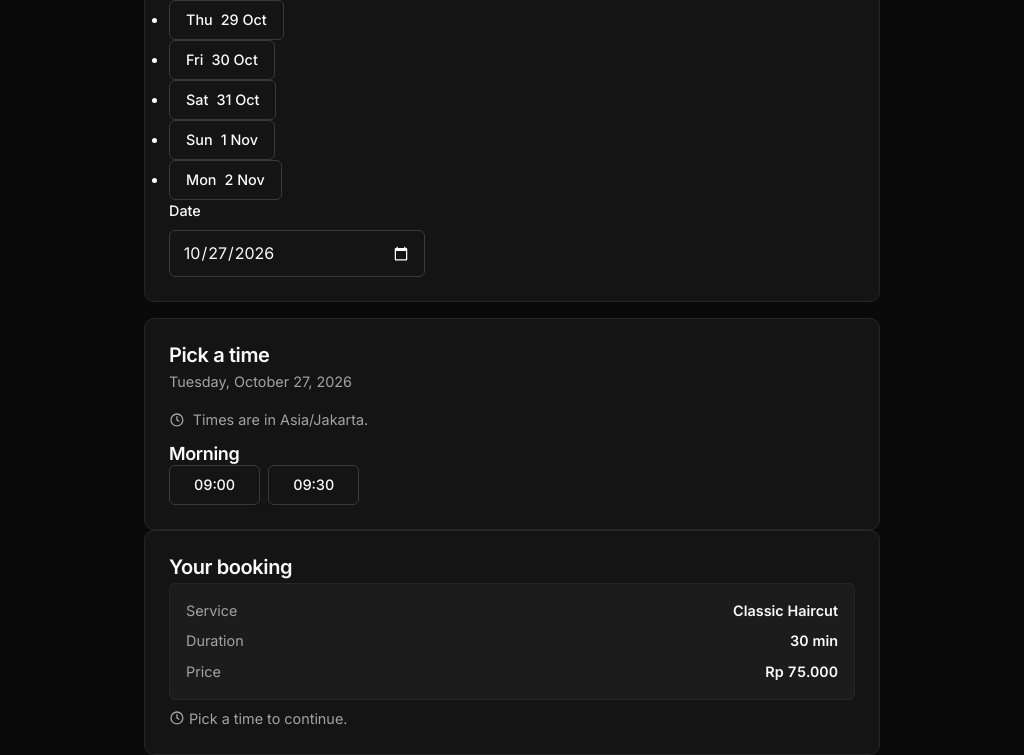
Test: BookingPage › refetches and clears the selection when the date changes
The image size is (1024, 755).
(page scrolled)
Click the button "09:00": (215, 485) [169,465,260,505]
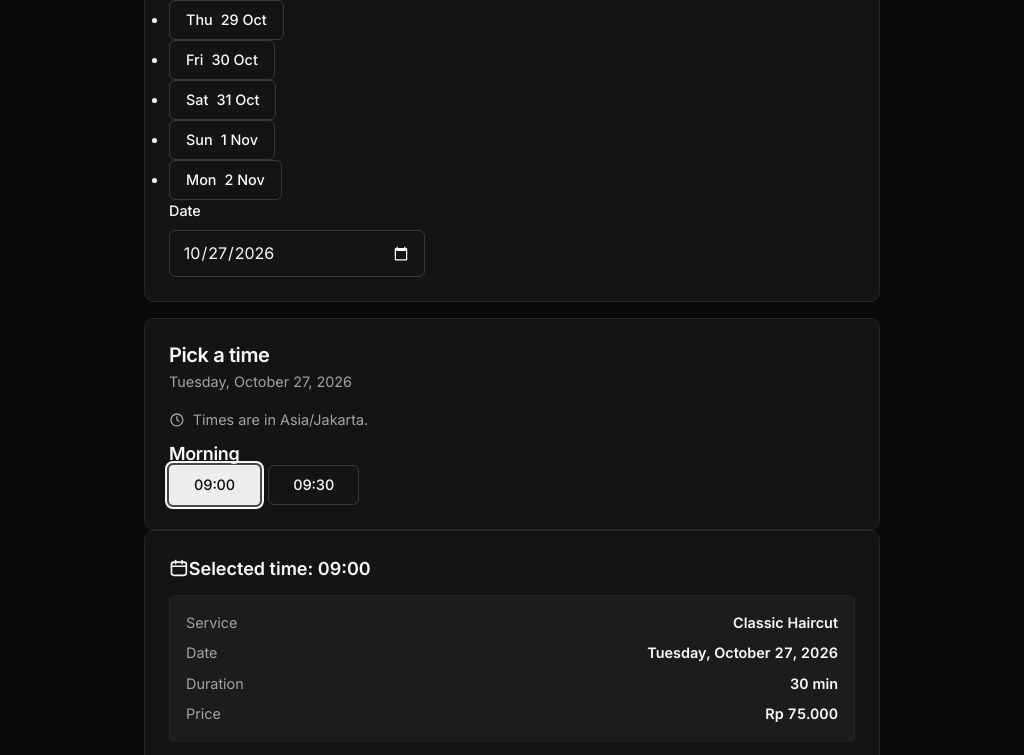
In the date field labelled "Date": (297, 254) [169,230,425,277], type "2026-10-28"
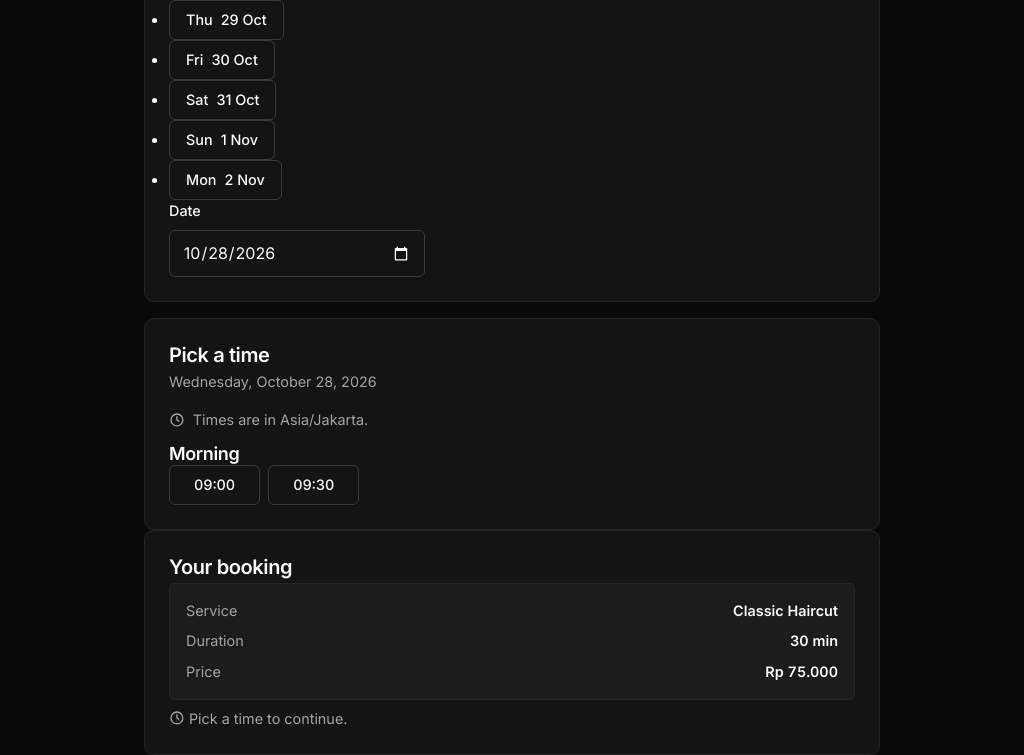
Now the text "Selected time: 09:00" is gone
